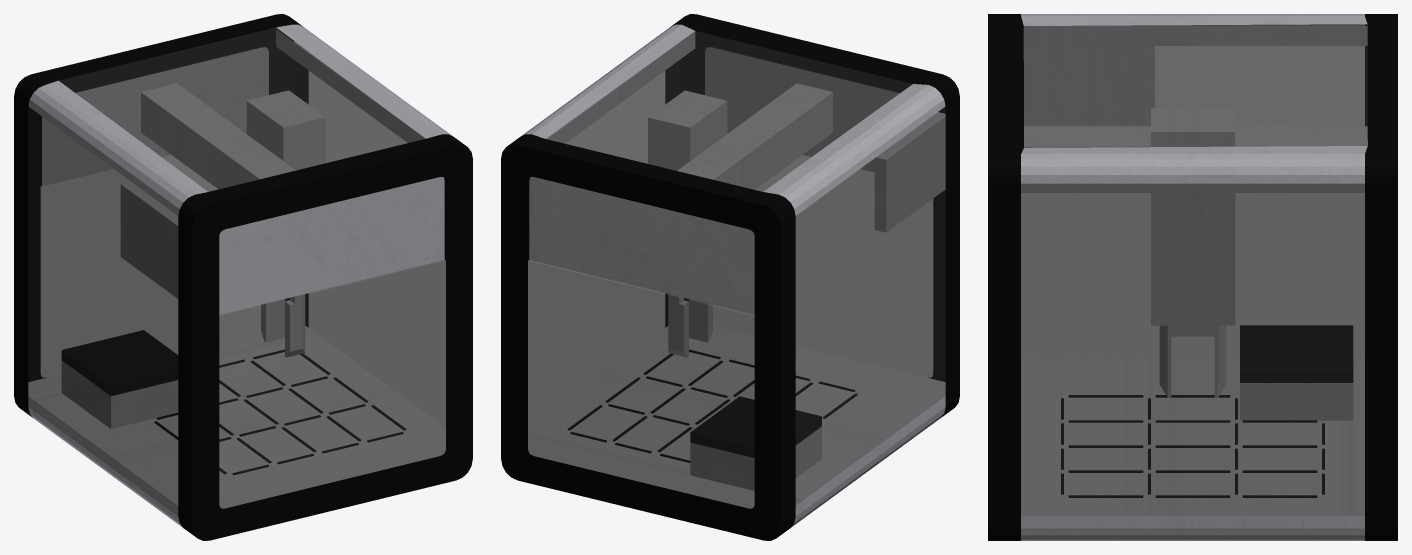
3 views of the same model, side by side, from view 1: azimuth 30°, elevation 25°; view 2: azimuth 150°, elevation 25°; view 3: azimuth 270°, elevation 25° (orthographic). The views are drawn at different scales.
Visible parts, largest first — view 1: 078; view 2: 078; view 3: 078.
Part boxes in pixels (bbox=[...]): 078: bbox=[14, 14, 472, 540]; 078: bbox=[501, 14, 959, 540]; 078: bbox=[988, 14, 1397, 540].
Size of the model in its own units: 0.5706 by 0.6532 by 0.6302.
Materials: 3 (1 with a texture image).
